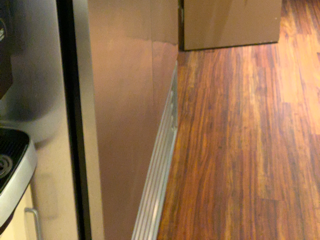Obstacle: (3, 2, 183, 239), (181, 1, 283, 48)
